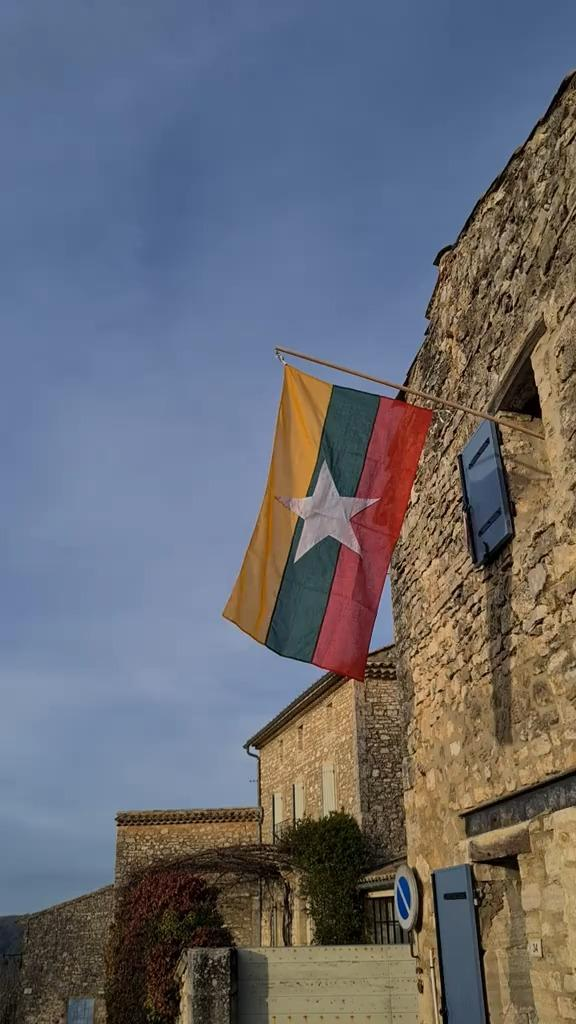Myanmar: (225, 366, 433, 680)
